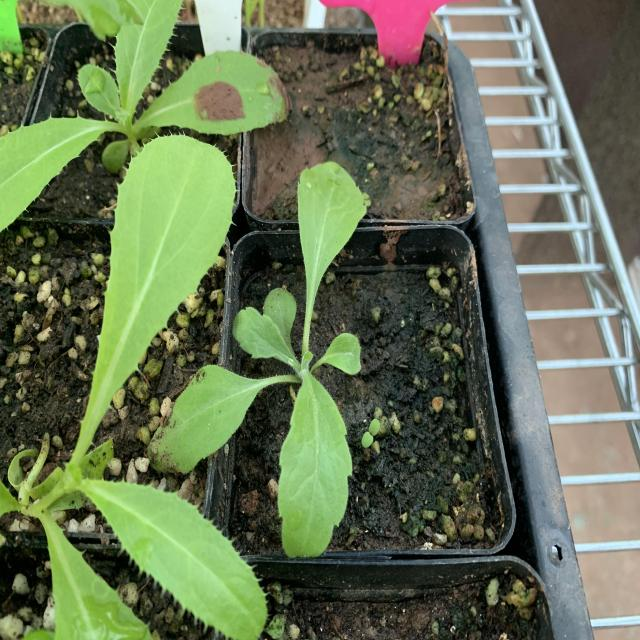field_thistle: (19, 142, 280, 625), (4, 0, 295, 199)
